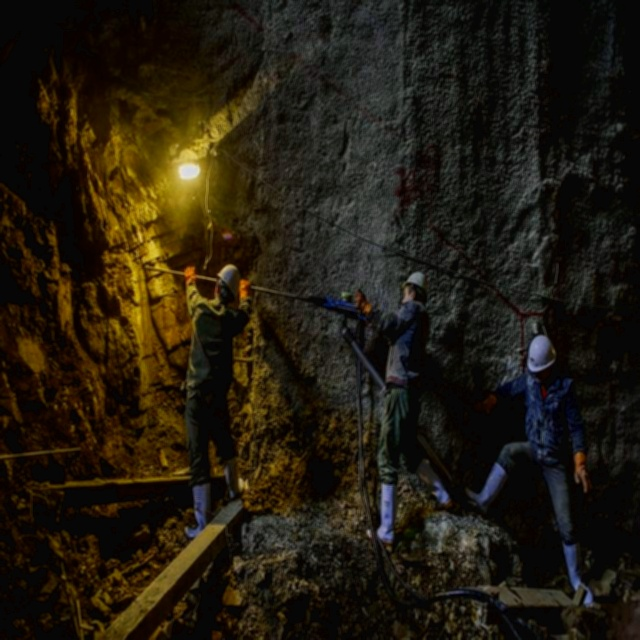Con_Casco: (527, 335, 557, 380), (217, 265, 240, 304), (401, 270, 429, 301)
Sin_Chaleco: (190, 301, 234, 399)
